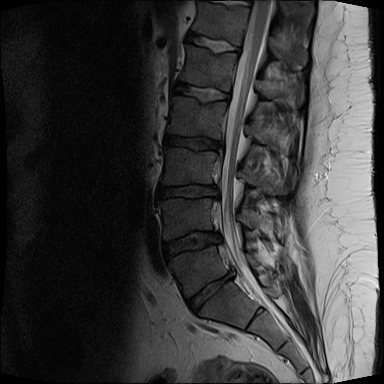Degenerative Disc Disease (DDD): (186, 263, 242, 315)
Lumbar Disc Bulge (LDB): (182, 259, 241, 321), (155, 221, 229, 268), (151, 128, 228, 155), (148, 178, 227, 204)
Normal IVD: (167, 77, 233, 108), (180, 28, 243, 56)
Spinal Stenosis (SS): (210, 131, 234, 159), (208, 177, 228, 205), (225, 261, 240, 287), (212, 227, 228, 250)
